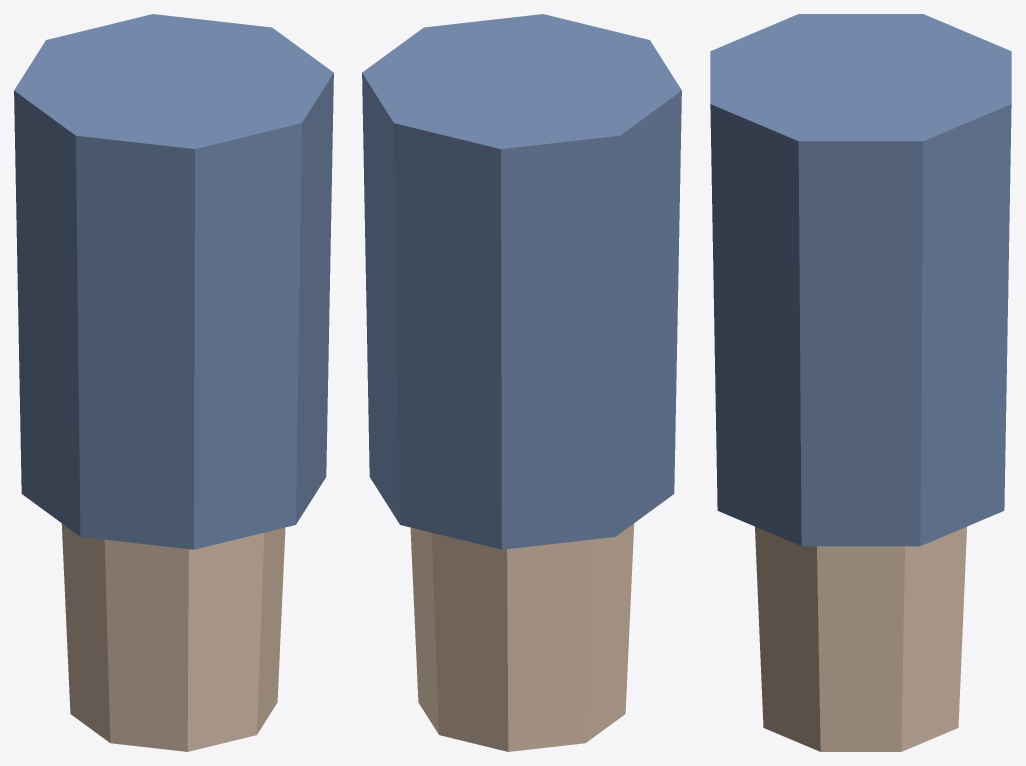
File: CharThigh.fbx
3 renders of one model, left to right at view 1: azimuth 30°, elevation 25°; view 2: azimuth 150°, elevation 25°; view 3: azimuth 270°, elevation 25°, orthographic.
Visible parts, largest first — view 1: CharThigh; view 2: CharThigh; view 3: CharThigh.
Part boxes in pixels (x1=…): CharThigh: x1=14, y1=14, x2=333, y2=751; CharThigh: x1=362, y1=14, x2=681, y2=751; CharThigh: x1=710, y1=14, x2=1011, y2=751.
Bounding box in the file's own units: 0.194 × 0.45 × 0.194.
